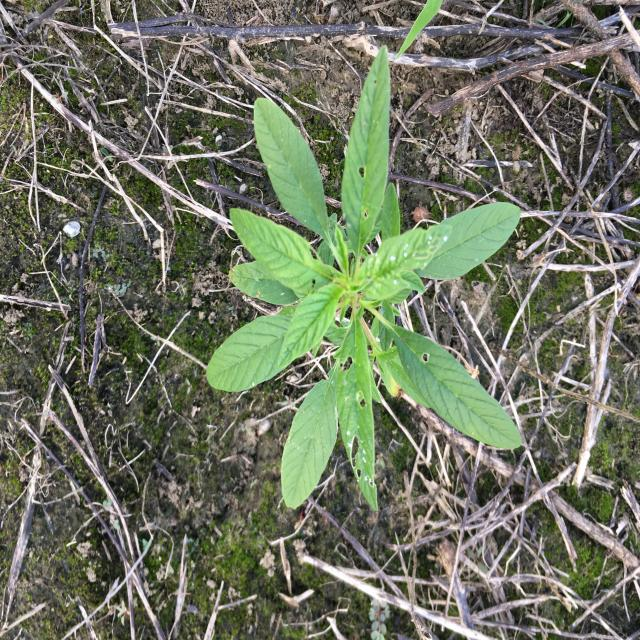Waterhemp: (205, 44, 524, 513)
